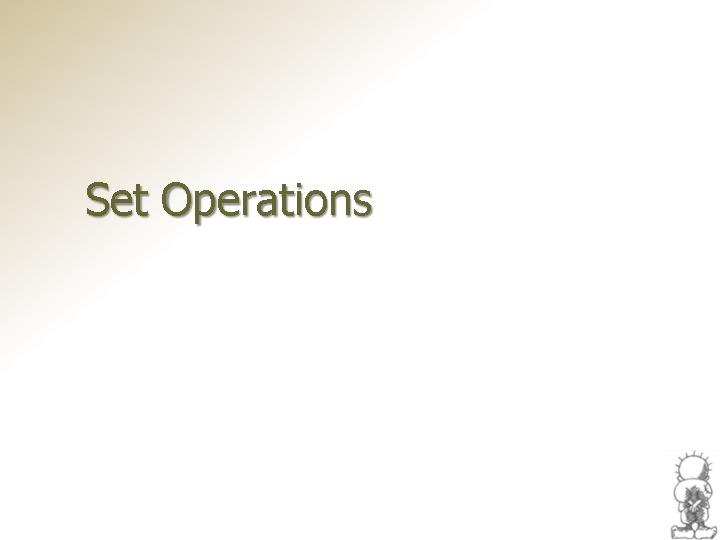title: (74, 173, 380, 223)
